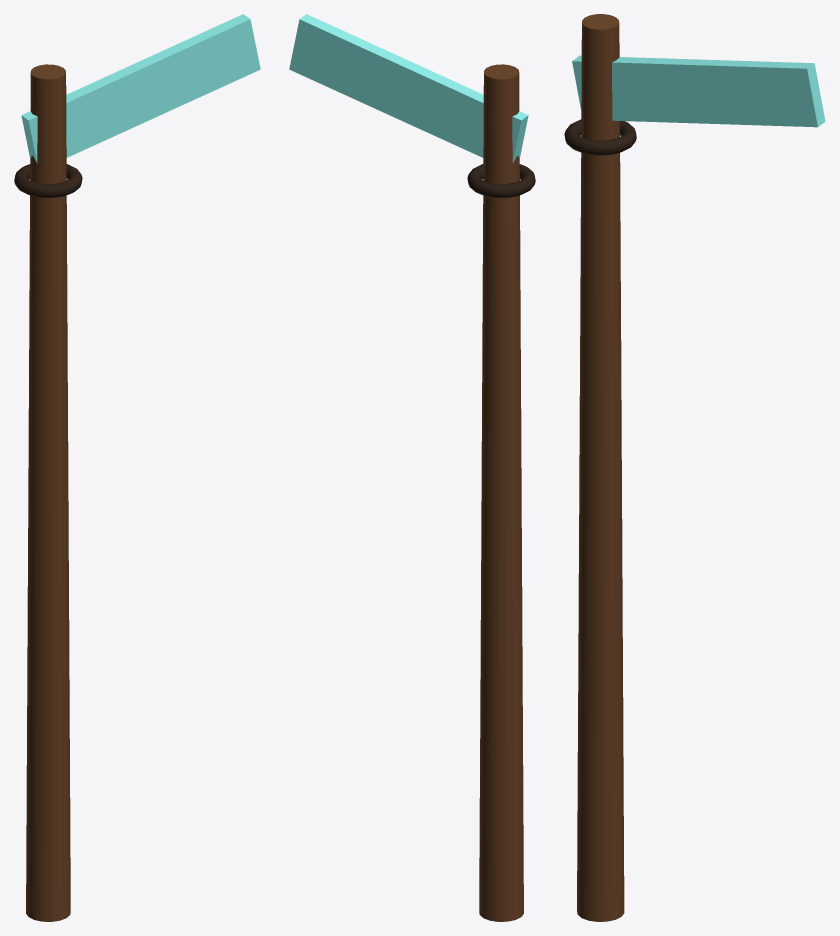
Rendered from diamond_hoe.glb.
The picture shows the model from 3 angles, left to right: view 1: azimuth 30°, elevation 25°; view 2: azimuth 150°, elevation 25°; view 3: azimuth 330°, elevation 25°; orthographic projection. The views are drawn at different scales.
Visible parts, largest first — view 1: handle, blade, binding; view 2: handle, blade, binding; view 3: handle, blade, binding.
Boxes of the visible parts, <box> form: handle: <box>26,64,70,921</box>; blade: <box>21,14,260,163</box>; binding: <box>14,164,82,198</box>; handle: <box>479,64,523,921</box>; blade: <box>289,14,528,163</box>; binding: <box>467,164,535,198</box>; handle: <box>577,14,624,921</box>; blade: <box>572,55,825,127</box>; binding: <box>564,119,636,155</box>.
Bounding box in the file's own units: 0.2318 × 0.7864 × 0.058.
